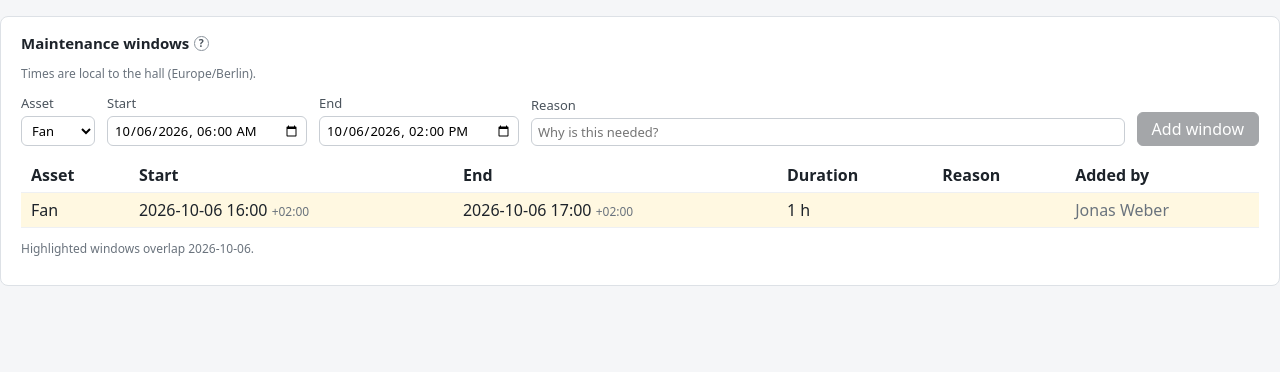
P16: saved but the list failed to refresh is reported as saved
Type "Belt change" into the field named "reason" at x=828, y=132, box left=531, top=118, right=1125, bottom=146
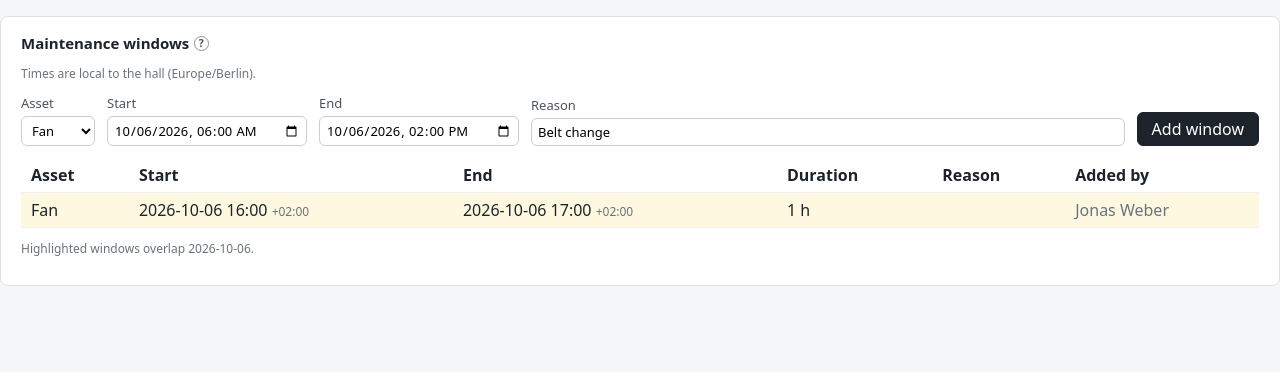
Submit the form, box left=21, top=94, right=1259, bottom=146
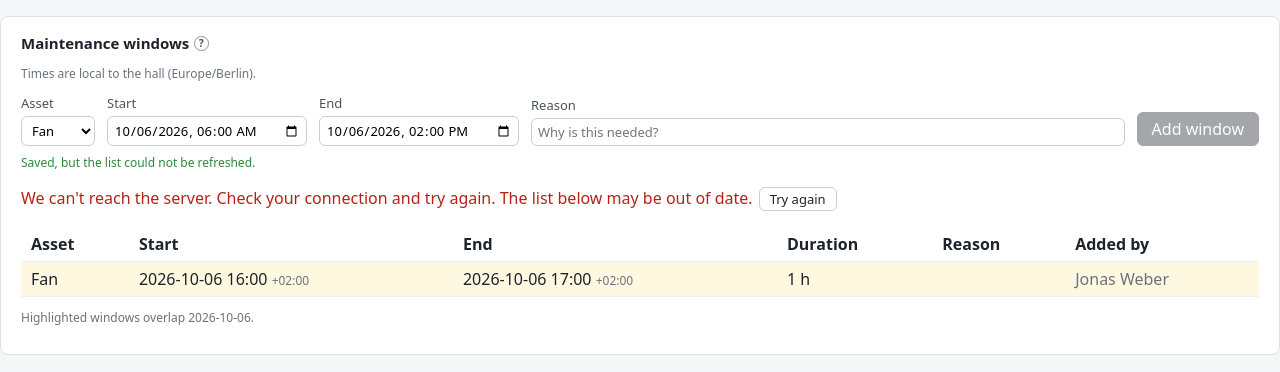
Check: the message "Saved, but the list could not be refreshed." is shown, box left=21, top=154, right=255, bottom=171
Check: the text "Saved, but the list could not be refreshed." is shown, box left=21, top=154, right=255, bottom=171
